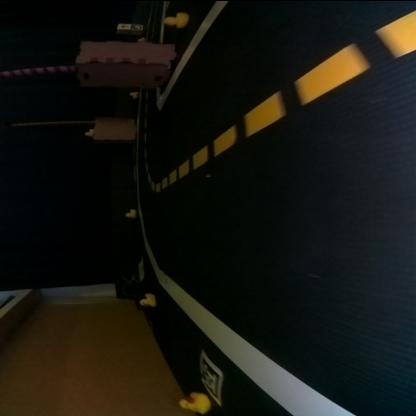Duckie: (179, 392, 209, 412), (164, 11, 188, 26), (139, 293, 154, 305), (126, 208, 136, 216), (84, 128, 92, 134), (136, 36, 144, 42), (129, 90, 137, 96)
Intersection sign: (116, 22, 128, 28)
QR code: (198, 350, 223, 404), (128, 22, 142, 28)
